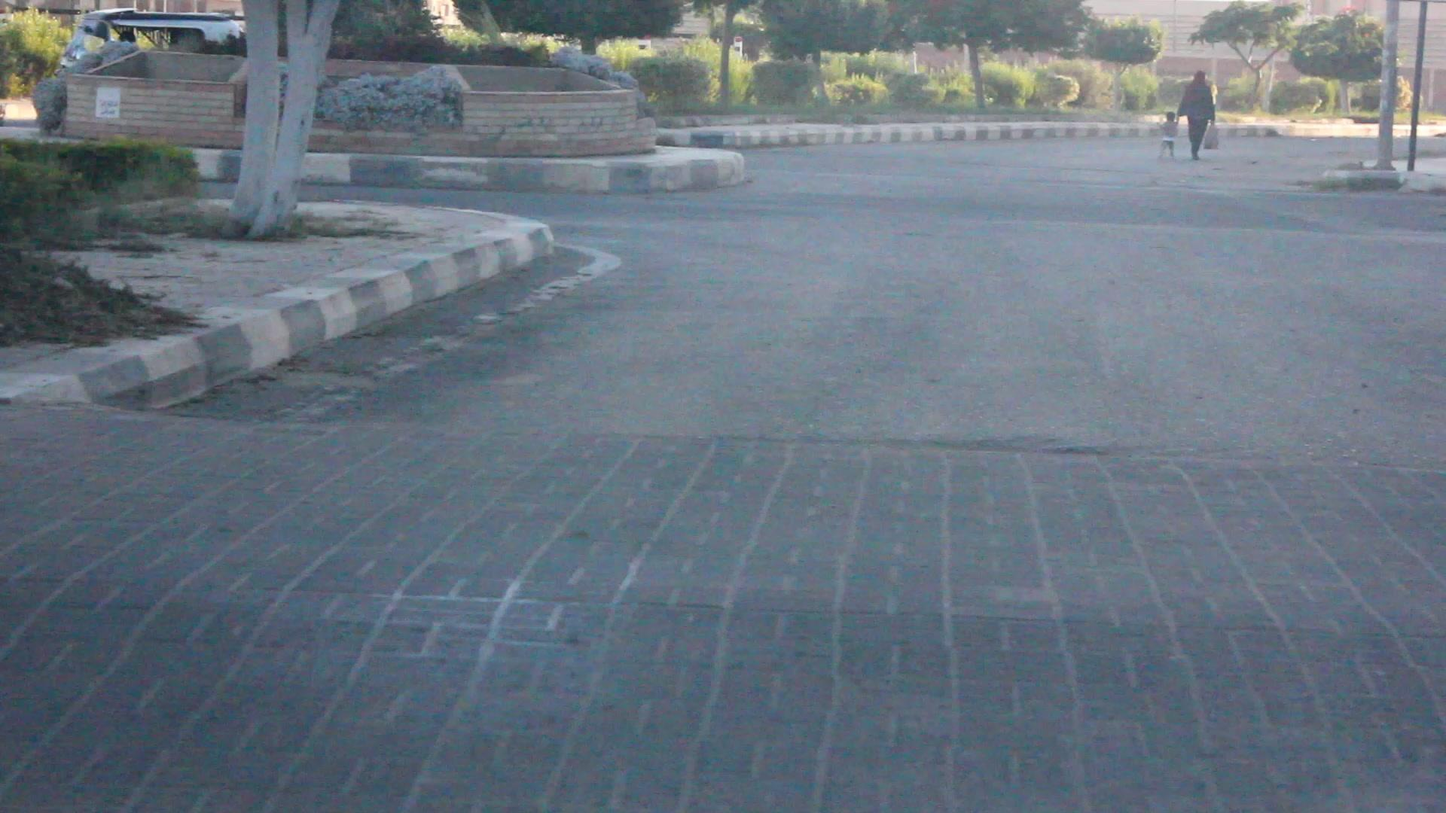Bump: (0, 401, 1445, 812)
